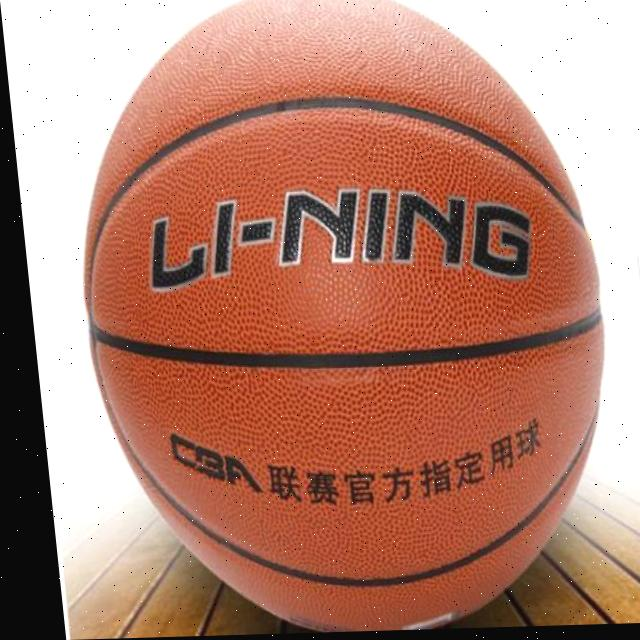Basketball: (43, 0, 638, 631)
